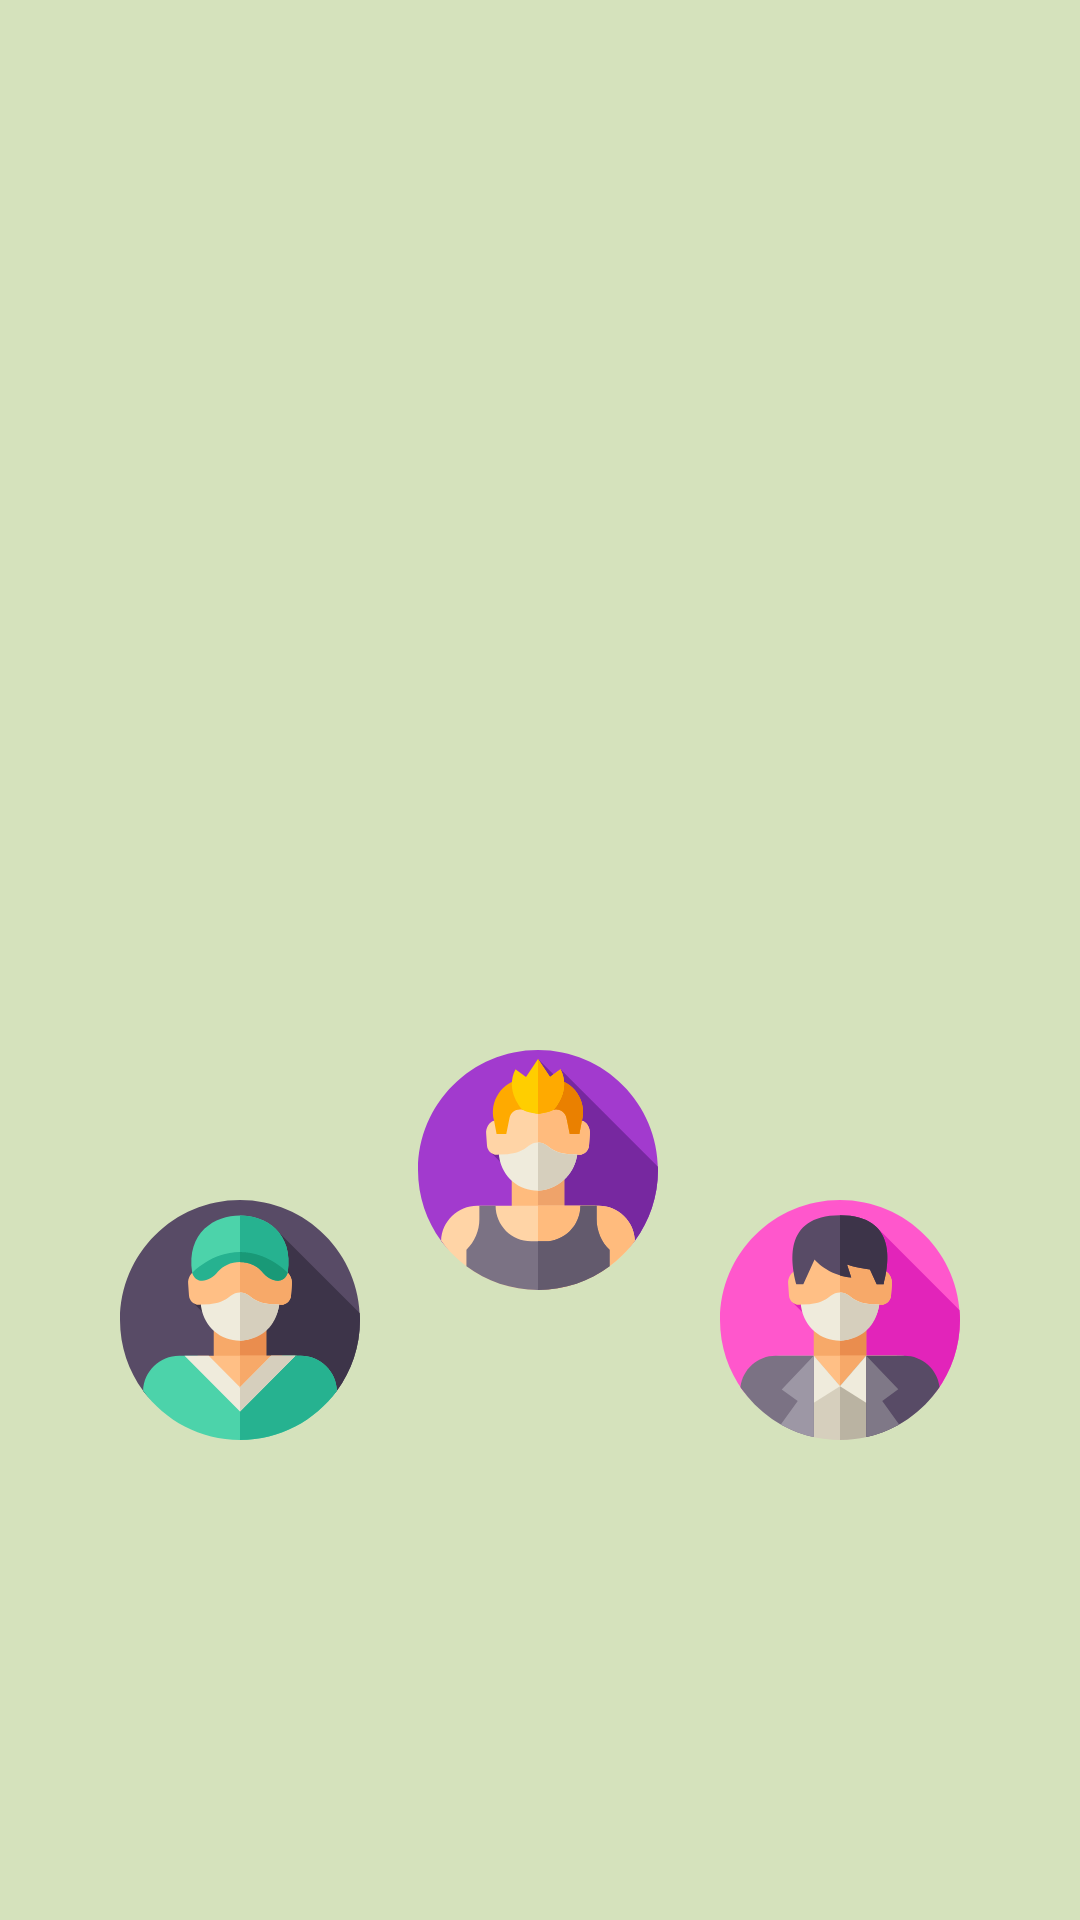

Point at icon controls on the screen. Image size 1080w x 1920h, points as (x,y).
boy: (538,1170)
man: (240,1320), (840,1320)
